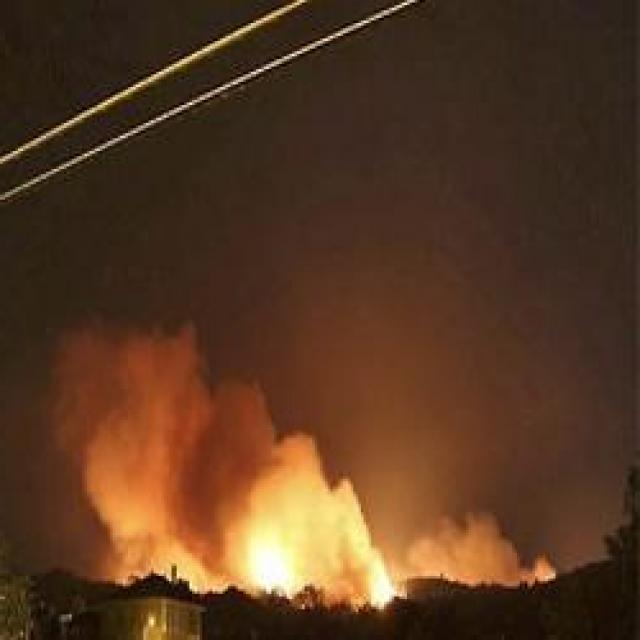fire: (235, 512, 293, 600)
smoke: (90, 419, 264, 552), (289, 481, 366, 588), (411, 524, 513, 586)
